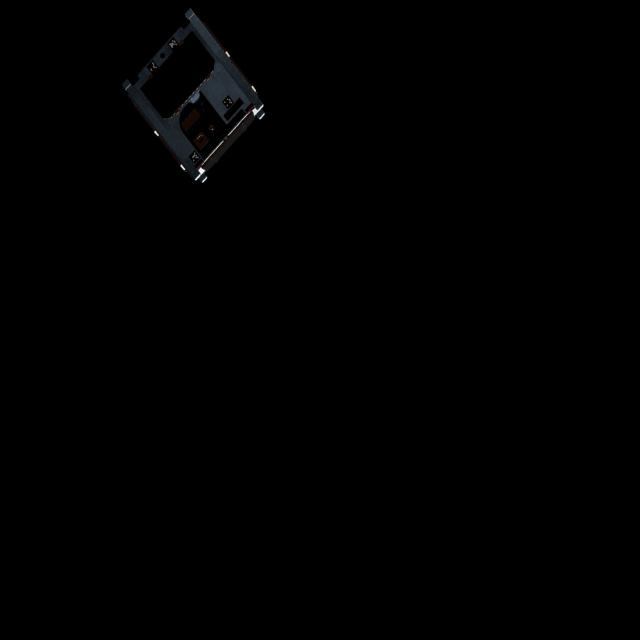satellite: (122, 11, 266, 189)
